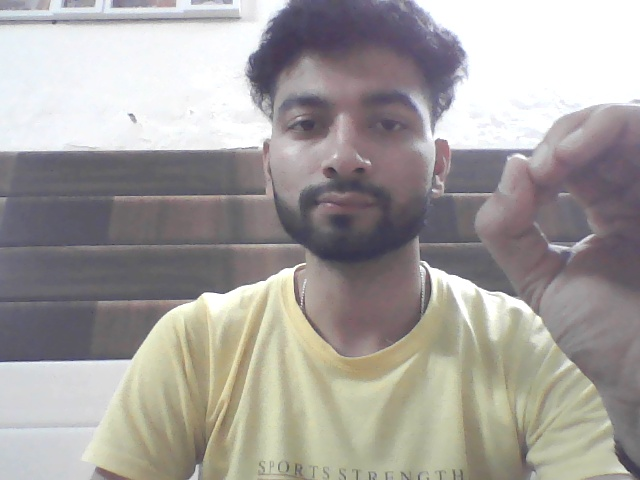No: (470, 62, 640, 463)
